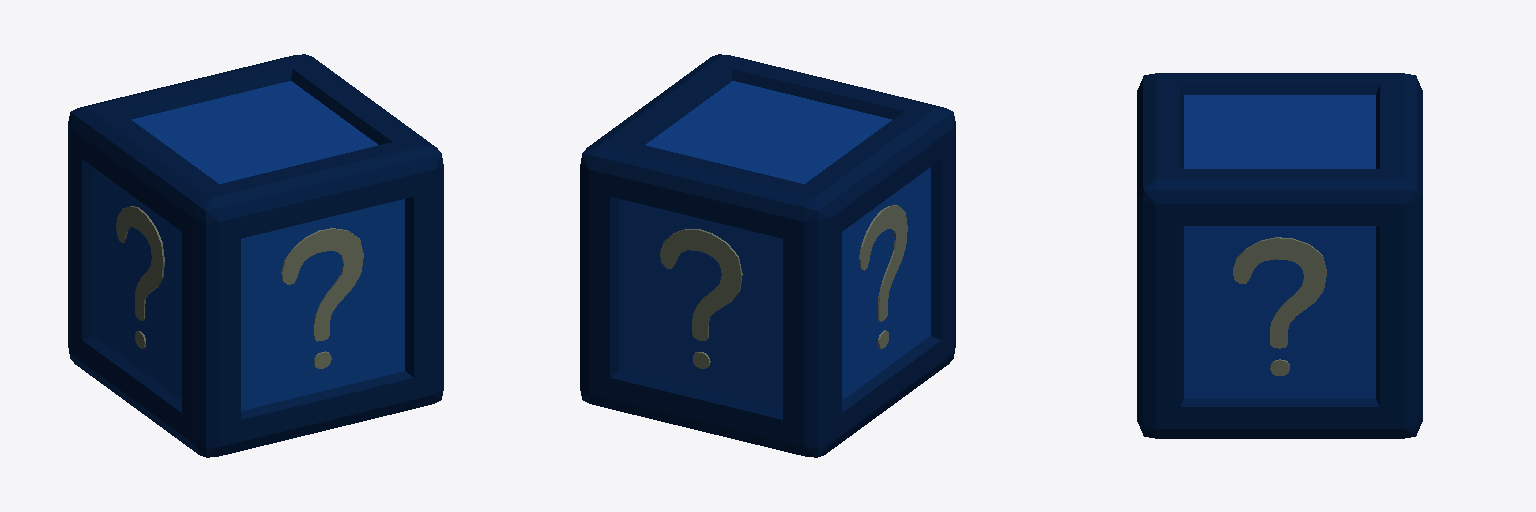
File: Cube_Question_Cube.obj
3 views of the same model, side by side, from view 1: azimuth 30°, elevation 25°; view 2: azimuth 150°, elevation 25°; view 3: azimuth 270°, elevation 25° (orthographic).
Visible parts, largest first — view 1: Cube_Question_Cube; view 2: Cube_Question_Cube; view 3: Cube_Question_Cube.
Part boxes in pixels (x1,y1,x2,y2): Cube_Question_Cube: (68,54,443,457); Cube_Question_Cube: (580,54,955,457); Cube_Question_Cube: (1137,73,1422,438).
Bounding box in the file's own units: 2.02 × 2.02 × 2.02.